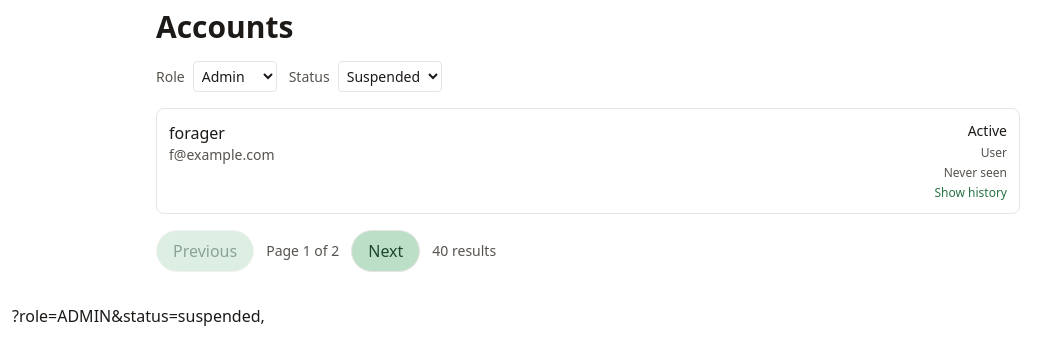
it: paging › keeps the filters when the page changes
Click the button "Next" at (386,251), box [351,230,420,272]
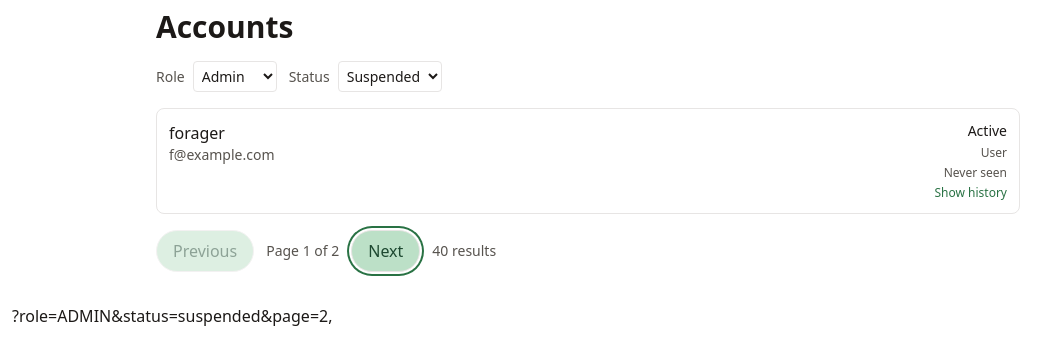
Now the text with test id "url" reads "?role=ADMIN&status=suspended&page=2", box [12,305,328,327]
